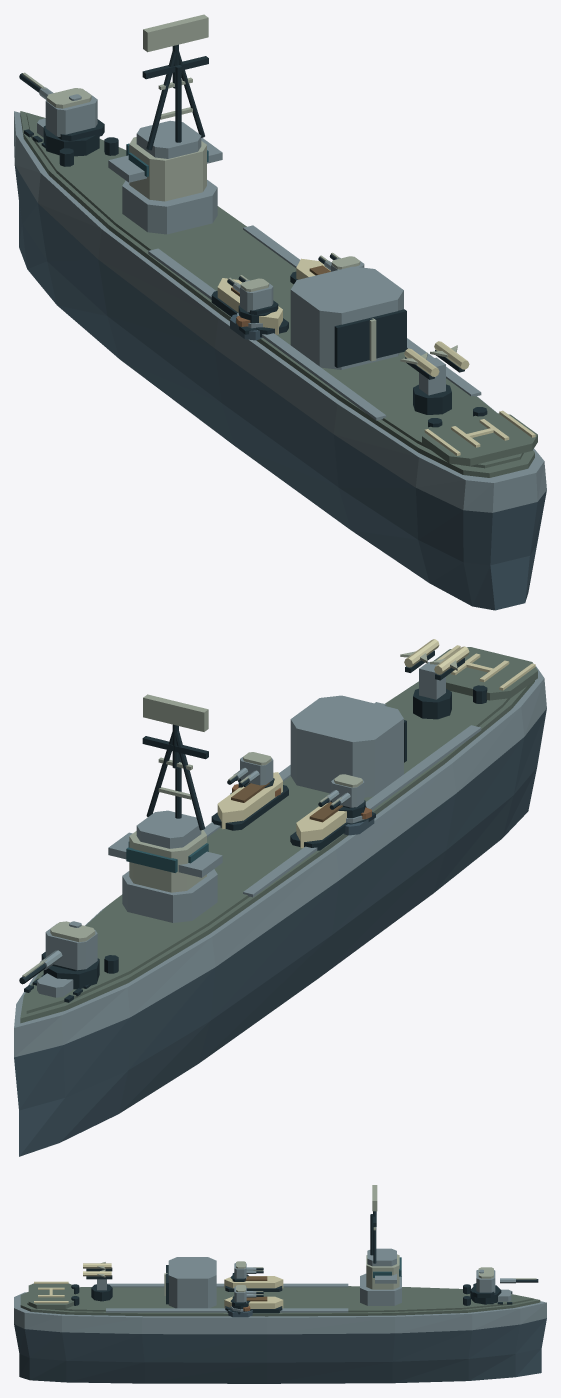
Rendered from historic-truxtun.glb.
3 renders of one model, top to bottom at view 1: azimuth 30°, elevation 25°; view 2: azimuth 150°, elevation 25°; view 3: azimuth 270°, elevation 25°, orthographic. The views are drawn at different scales.
Parts seen in each view (by area): view 1: historic-truxtun-historic-truxtun-geometry, historic-truxtun-part_bridge.114-geometry, historic-truxtun-turret_main_0.083-geometry, historic-truxtun-naval_launcher_0.008-geometry, historic-truxtun-turret_aa_aa-port.116-geometry; view 2: historic-truxtun-historic-truxtun-geometry, historic-truxtun-part_bridge.114-geometry, historic-truxtun-turret_main_0.083-geometry, historic-truxtun-naval_launcher_0.008-geometry, historic-truxtun-turret_aa_aa-port.116-geometry, historic-truxtun-turret_aa_aa-starboard.112-geometry; view 3: historic-truxtun-historic-truxtun-geometry, historic-truxtun-part_bridge.114-geometry, historic-truxtun-turret_main_0.083-geometry, historic-truxtun-naval_launcher_0.008-geometry, historic-truxtun-turret_aa_aa-starboard.112-geometry, historic-truxtun-turret_aa_aa-port.116-geometry.
Boxes of the visible parts, bbox=[...] form: historic-truxtun-historic-truxtun-geometry: bbox=[14, 111, 546, 610]; historic-truxtun-part_bridge.114-geometry: bbox=[108, 14, 222, 234]; historic-truxtun-turret_main_0.083-geometry: bbox=[19, 72, 104, 156]; historic-truxtun-naval_launcher_0.008-geometry: bbox=[400, 341, 469, 414]; historic-truxtun-turret_aa_aa-port.116-geometry: bbox=[227, 275, 278, 323]; historic-truxtun-historic-truxtun-geometry: bbox=[14, 645, 546, 1156]; historic-truxtun-part_bridge.114-geometry: bbox=[108, 694, 222, 922]; historic-truxtun-turret_main_0.083-geometry: bbox=[19, 921, 99, 989]; historic-truxtun-naval_launcher_0.008-geometry: bbox=[400, 639, 469, 719]; historic-truxtun-turret_aa_aa-port.116-geometry: bbox=[318, 774, 365, 818]; historic-truxtun-turret_aa_aa-starboard.112-geometry: bbox=[227, 752, 274, 787]; historic-truxtun-historic-truxtun-geometry: bbox=[14, 1257, 546, 1383]; historic-truxtun-part_bridge.114-geometry: bbox=[360, 1185, 401, 1305]; historic-truxtun-turret_main_0.083-geometry: bbox=[470, 1267, 538, 1304]; historic-truxtun-naval_launcher_0.008-geometry: bbox=[83, 1262, 112, 1301]; historic-truxtun-turret_aa_aa-starboard.112-geometry: bbox=[230, 1285, 263, 1309]; historic-truxtun-turret_aa_aa-port.116-geometry: bbox=[230, 1261, 263, 1281].
Size of the model in its own units: 0.6562 by 1.61 by 4.32.
